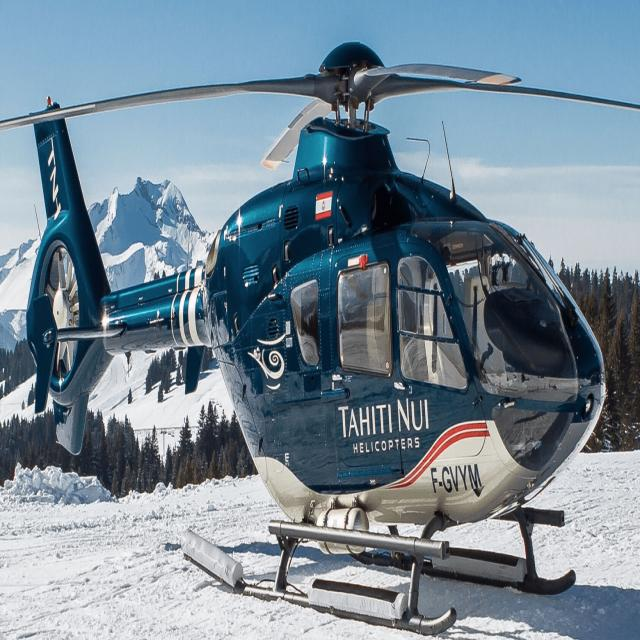helicopter: (9, 11, 632, 636)
